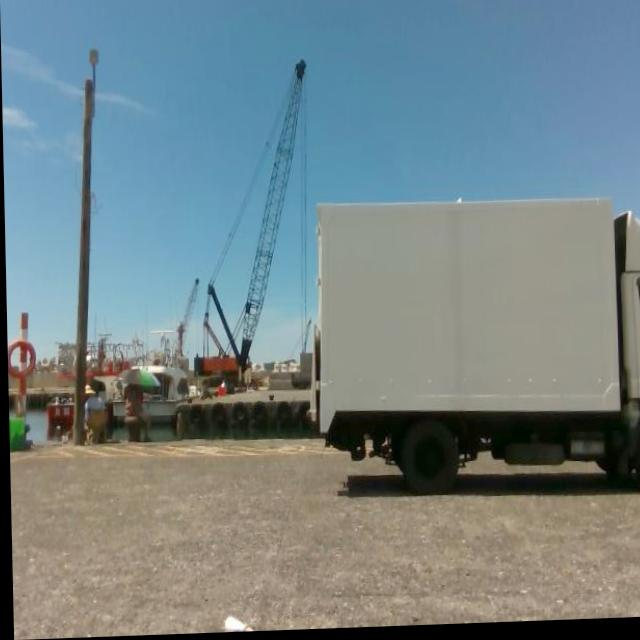pollute: (218, 614, 253, 633)
